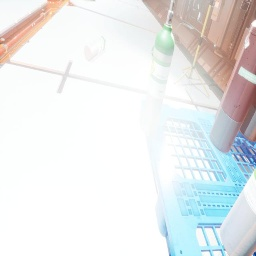0: (142, 0, 175, 137), (220, 168, 256, 256), (84, 36, 106, 61), (151, 46, 154, 56), (88, 0, 96, 1)
NitrogenTank ,: (209, 22, 256, 153), (215, 19, 256, 119), (239, 95, 256, 142)
SafetySwitchPanel ,: (211, 0, 225, 22)
